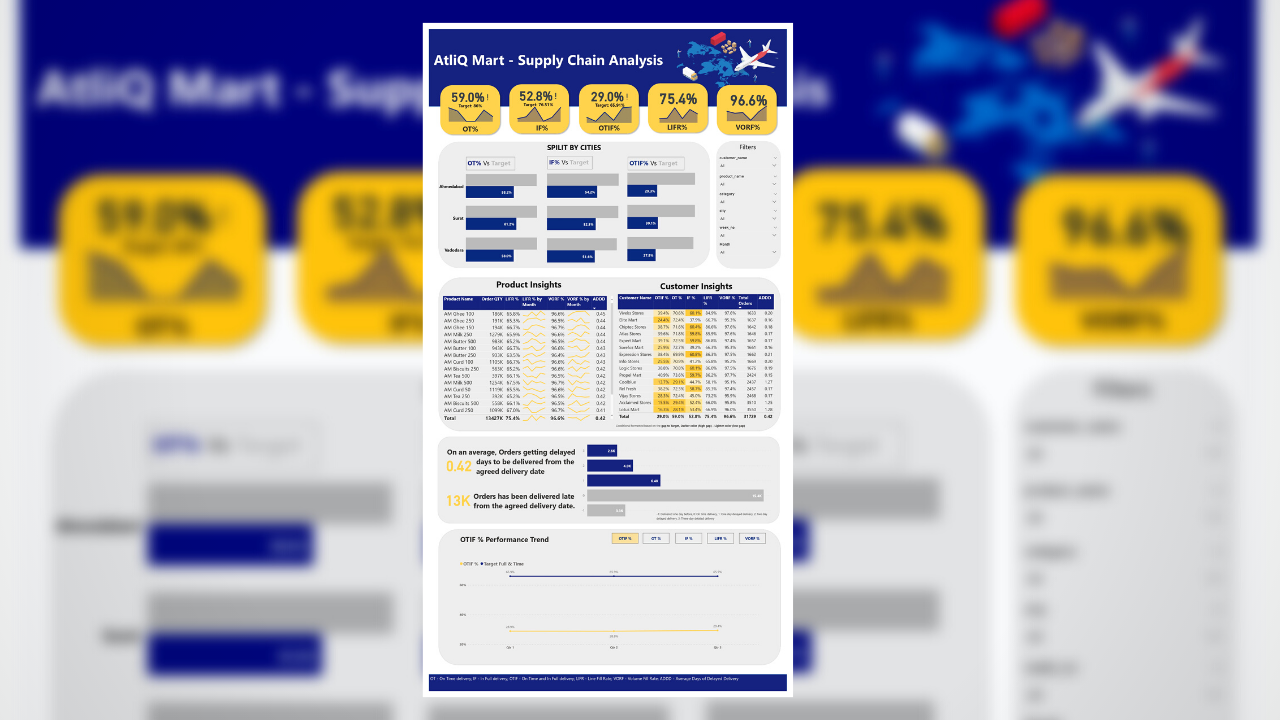

The page's visual inventory and layout, read from the dashboard file:
{"tool":"powerbi","page":{"name":"Page 8","canvas":[1350,2000],"ordinal":1},"visuals":[{"type":"kpi","fields":{"Indicator":["Resource_measures.OT %"],"Goal":["Resource_measures.Target On_time"],"TrendLine":["fact_order_lines.customer_id"]},"box":[59.7,104.4,214.6,87.4],"z":0},{"type":"areaChart","fields":{"Category":["dim_date.date.Variation.Date Hierarchy.Month"],"Y":["Resource_measures.OT %"]},"box":[56,150,228,102],"z":1000},{"type":"kpi","fields":{"TrendLine":["fact_order_lines.customer_id"],"Indicator":["Resource_measures.OTIF %"],"Goal":["Resource_measures.Target Full & Time"]},"box":[282.7,95.3,214.6,87.4],"z":2000},{"type":"areaChart","fields":{"Category":["dim_date.date.Variation.Date Hierarchy.Month"],"Y":["Resource_measures.LIFR %"]},"box":[282,150,228,102],"z":3000},{"type":"kpi","fields":{"TrendLine":["fact_order_lines.customer_id"],"Indicator":["Resource_measures.IF %"],"Goal":["Resource_measures.Target In_full"]},"box":[525,105,215,88.3],"z":4000},{"type":"areaChart","fields":{"Category":["dim_date.date.Variation.Date Hierarchy.Month"],"Y":["Resource_measures.VORF %"]},"box":[514,150,228,102],"z":5000},{"type":"card","fields":{"Values":["Resource_measures.VORF %"]},"box":[1070,98.3,168.3,135],"z":6000},{"type":"card","fields":{"Values":["Resource_measures.LIFR %"]},"box":[843.3,103.3,200,120],"z":7000},{"type":"tableEx","fields":{"Values":["dim_products.product_name","fact_order_lines.order_qty","Resource_measures.LIFR %","SparklineData(Resource_measures.LIFR %_[dim_date.date.Variation.Date Hierarchy.Month])","Resource_measures.VORF %","SparklineData(Resource_measures.VORF %_[dim_date.date.Variation.Date Hierarchy.Month])","Resource_measures.ADDD"]},"box":[18,680,640,444],"z":8000},{"type":"tableEx","fields":{"Values":["dim_customers.customer_name","Resource_measures.OTIF %","Resource_measures.OT %","Resource_measures.IF %","Resource_measures.LIFR %","Resource_measures.VORF %","fact_order_lines.order_id","Resource_measures.ADDD"]},"box":[694,682,614,458],"z":9000},{"type":"clusteredBarChart","fields":{"Category":["dim_customers.city"],"Y":["Resource_measures.Target Full & Time","Resource_measures.OTIF %"]},"box":[335,300,342.5,347.5],"z":10000},{"type":"clusteredBarChart","fields":{"Category":["dim_customers.city"],"Y":["Resource_measures.Target In_full","Resource_measures.IF %"]},"box":[680,302.5,322.5,347.5],"z":11000},{"type":"clusteredBarChart","fields":{"Category":["dim_customers.city"],"Y":["Resource_measures.Target On_time","Resource_measures.OT %"]},"box":[17.5,300,305,347.5],"z":12000},{"type":"barChart","fields":{"Category":["fact_order_lines.daydealy"],"Y":["fact_order_lines.order_id"]},"box":[450,1177.5,825,312.5],"z":13000},{"type":"card","fields":{"Values":["Resource_measures.Delayed orders count"]},"box":[43.3,1176.7,316.7,193.3],"z":14000},{"type":"lineChart","fields":{"Category":["dim_date.mmm_yy.Variation.Date Hierarchy.Month"],"Y":["Resource_measures.OTIF %","Resource_measures.Target Full & Time"]},"box":[162.5,1562.5,1027.5,437.5],"z":15000},{"type":"slicer","fields":{"Values":["dim_customers.customer_name"]},"box":[1013.5,336,315,72.5],"z":16000},{"type":"slicer","fields":{"Values":["dim_products.product_name"]},"box":[1013.1,408.9,315.7,68.6],"z":17000},{"type":"slicer","fields":{"Values":["dim_date.date.Variation.Date Hierarchy.Month"]},"box":[1013.1,477.4,315.7,64.3],"z":18000},{"type":"card","fields":{"Values":["Resource_measures.Total Orders"]},"box":[43.3,1370,316.7,150],"z":19000}]}

Visuals, with their boxes on the page's 1350x2000 design canvas (x1, y1, x2, y2). These are canvas units, not pixel positions in the 1280x720 screenshot, which may show the page scaled, cropped or inside an application window:
kpi - Resource_measures.OT % x Resource_measures.Target On_time: bbox(60, 104, 274, 192)
areaChart - dim_date.date.Variation.Date Hierarchy.Month x Resource_measures.OT %: bbox(56, 150, 284, 252)
kpi - fact_order_lines.customer_id x Resource_measures.OTIF %: bbox(283, 95, 497, 183)
areaChart - dim_date.date.Variation.Date Hierarchy.Month x Resource_measures.LIFR %: bbox(282, 150, 510, 252)
kpi - fact_order_lines.customer_id x Resource_measures.IF %: bbox(525, 105, 740, 193)
areaChart - dim_date.date.Variation.Date Hierarchy.Month x Resource_measures.VORF %: bbox(514, 150, 742, 252)
card - Resource_measures.VORF %: bbox(1070, 98, 1238, 233)
card - Resource_measures.LIFR %: bbox(843, 103, 1043, 223)
tableEx - dim_products.product_name x fact_order_lines.order_qty: bbox(18, 680, 658, 1124)
tableEx - dim_customers.customer_name x Resource_measures.OTIF %: bbox(694, 682, 1308, 1140)
clusteredBarChart - dim_customers.city x Resource_measures.Target Full & Time: bbox(335, 300, 678, 648)
clusteredBarChart - dim_customers.city x Resource_measures.Target In_full: bbox(680, 302, 1002, 650)
clusteredBarChart - dim_customers.city x Resource_measures.Target On_time: bbox(18, 300, 322, 648)
barChart - fact_order_lines.daydealy x fact_order_lines.order_id: bbox(450, 1178, 1275, 1490)
card - Resource_measures.Delayed orders count: bbox(43, 1177, 360, 1370)
lineChart - dim_date.mmm_yy.Variation.Date Hierarchy.Month x Resource_measures.OTIF %: bbox(162, 1562, 1190, 2000)
slicer - dim_customers.customer_name: bbox(1014, 336, 1328, 408)
slicer - dim_products.product_name: bbox(1013, 409, 1329, 478)
slicer - dim_date.date.Variation.Date Hierarchy.Month: bbox(1013, 477, 1329, 542)
card - Resource_measures.Total Orders: bbox(43, 1370, 360, 1520)
